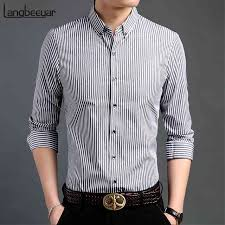striped: (25, 5, 197, 194)
